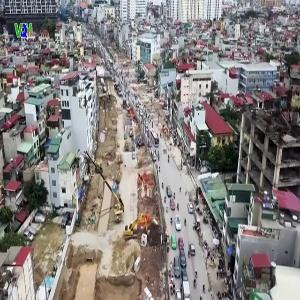drone: (176, 56, 255, 135)
